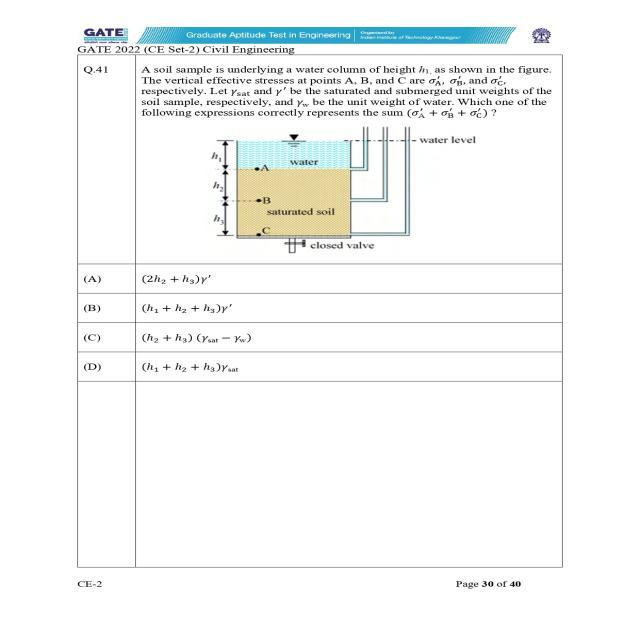Answer_Block: (77, 266, 560, 381)
Question_Answer_Block: (77, 57, 560, 382)
Question_Block: (79, 58, 558, 262)
Question_Paper_Area: (77, 44, 564, 568)
